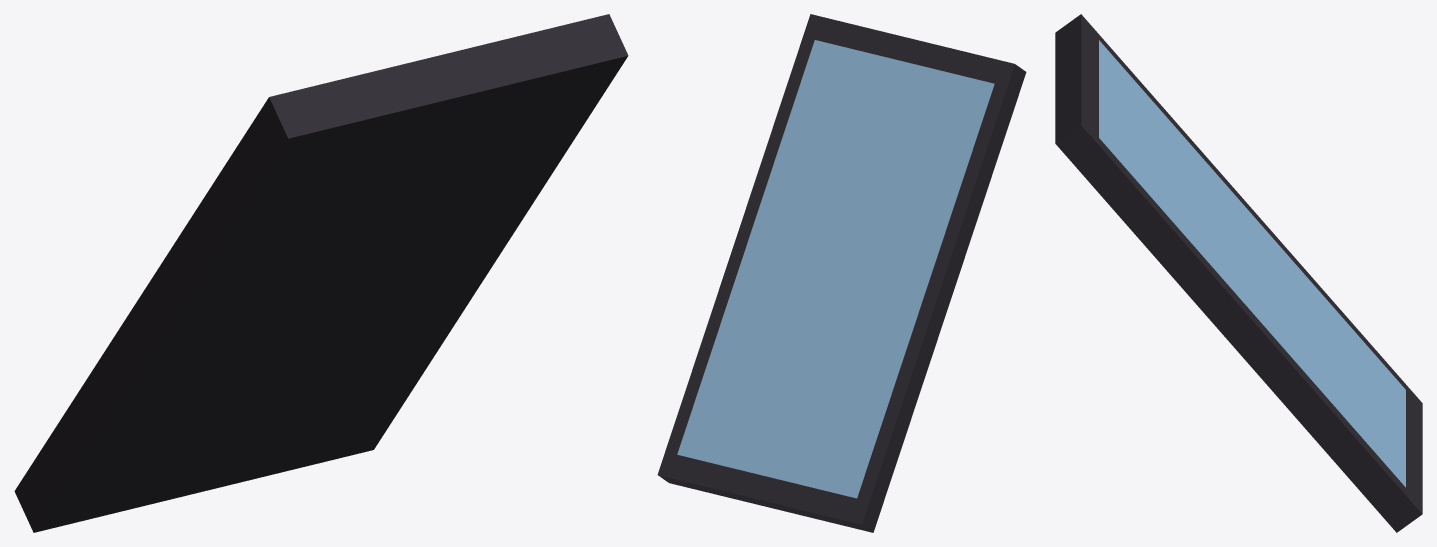
Rendered from iris-phone.glb.
The picture shows the model from 3 angles, left to right: view 1: azimuth 30°, elevation 25°; view 2: azimuth 150°, elevation 25°; view 3: azimuth 270°, elevation 25°; orthographic projection. The views are drawn at different scales.
Visible parts, largest first — view 1: prop; view 2: prop (×2); view 3: prop (×2).
Boxes of the visible parts, <box> form: prop: <box>14,14,628,532</box>; prop (×2): <box>657,14,1026,532</box>; prop (×2): <box>1055,14,1422,532</box>.
Bounding box in the file's own units: 0.064 × 0.1094 × 0.0893.
